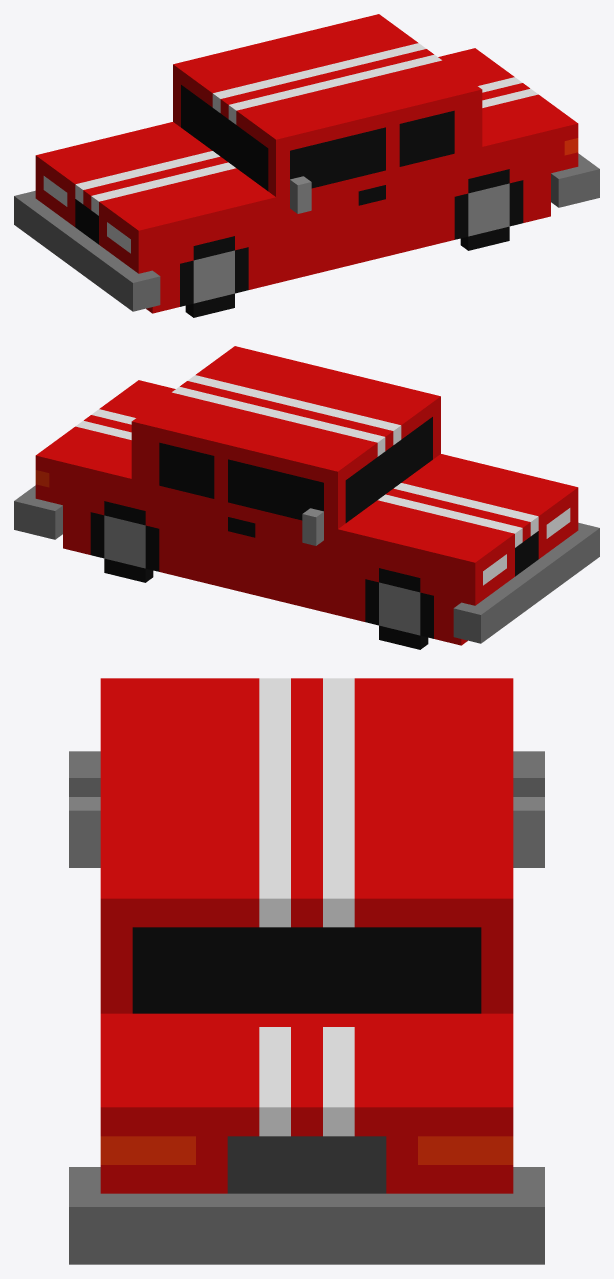
Rendered from coche3.1.fbx.
3 renders of one model, top to bottom at view 1: azimuth 30°, elevation 25°; view 2: azimuth 150°, elevation 25°; view 3: azimuth 270°, elevation 25°, orthographic. The views are drawn at different scales.
Parts seen in each view (by area): view 1: Cubo.1998; view 2: Cubo.1998; view 3: Cubo.1998.
Boxes of the visible parts, x1,y1,x2,y2 form: Cubo.1998: (14,14,599,317); Cubo.1998: (14,346,599,649); Cubo.1998: (69,678,544,1264).
Size of the model in its own units: 1500 by 1100 by 3400.
